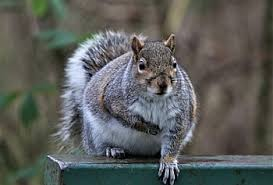squirrel: (61, 28, 201, 182)
